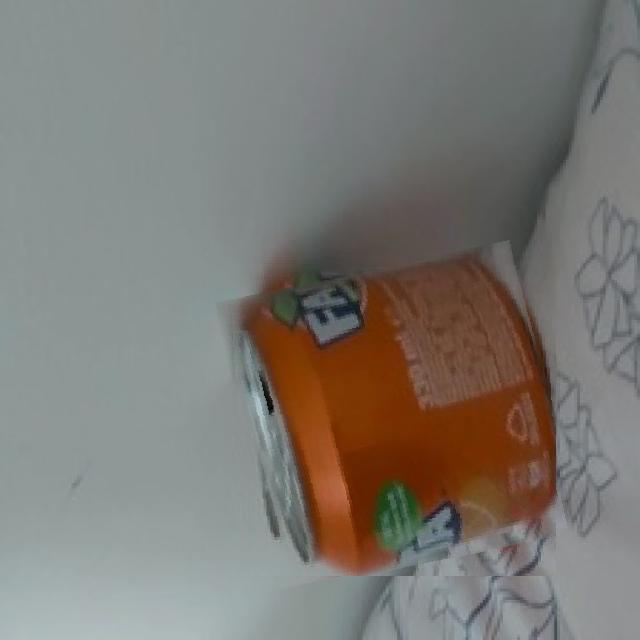recyclable: (228, 254, 556, 576)
